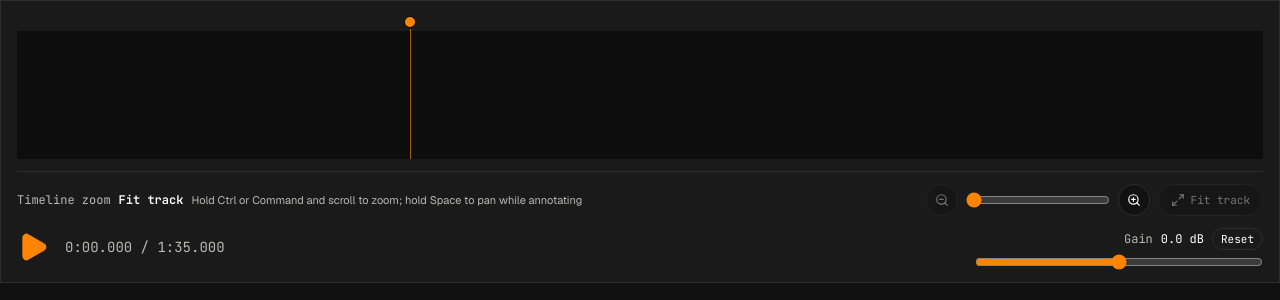
WaveformPlayer › zooms review waveforms while keeping visible markers on the scrolled timeline
The width and height of the screenshot is (1280, 300).
Click the button named "Zoom in" at (1134, 200), box x1=1118 y1=184 x2=1150 y2=216
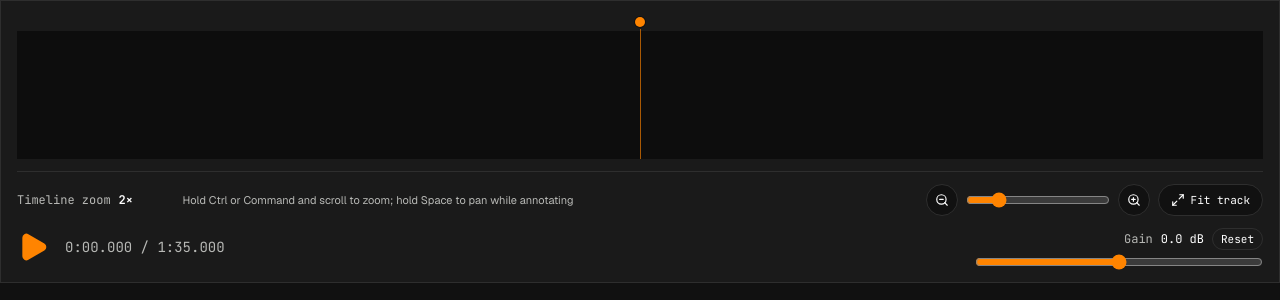
Result: the text "2×" is shown at x1=119 y1=192 x2=133 y2=208
